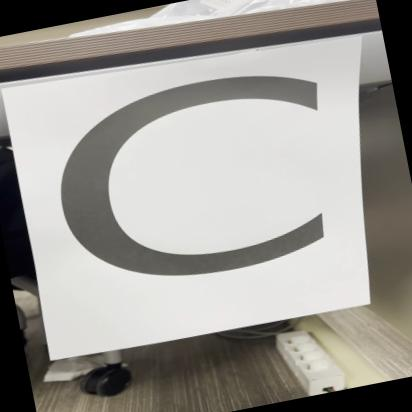seat: (19, 25, 412, 362)
